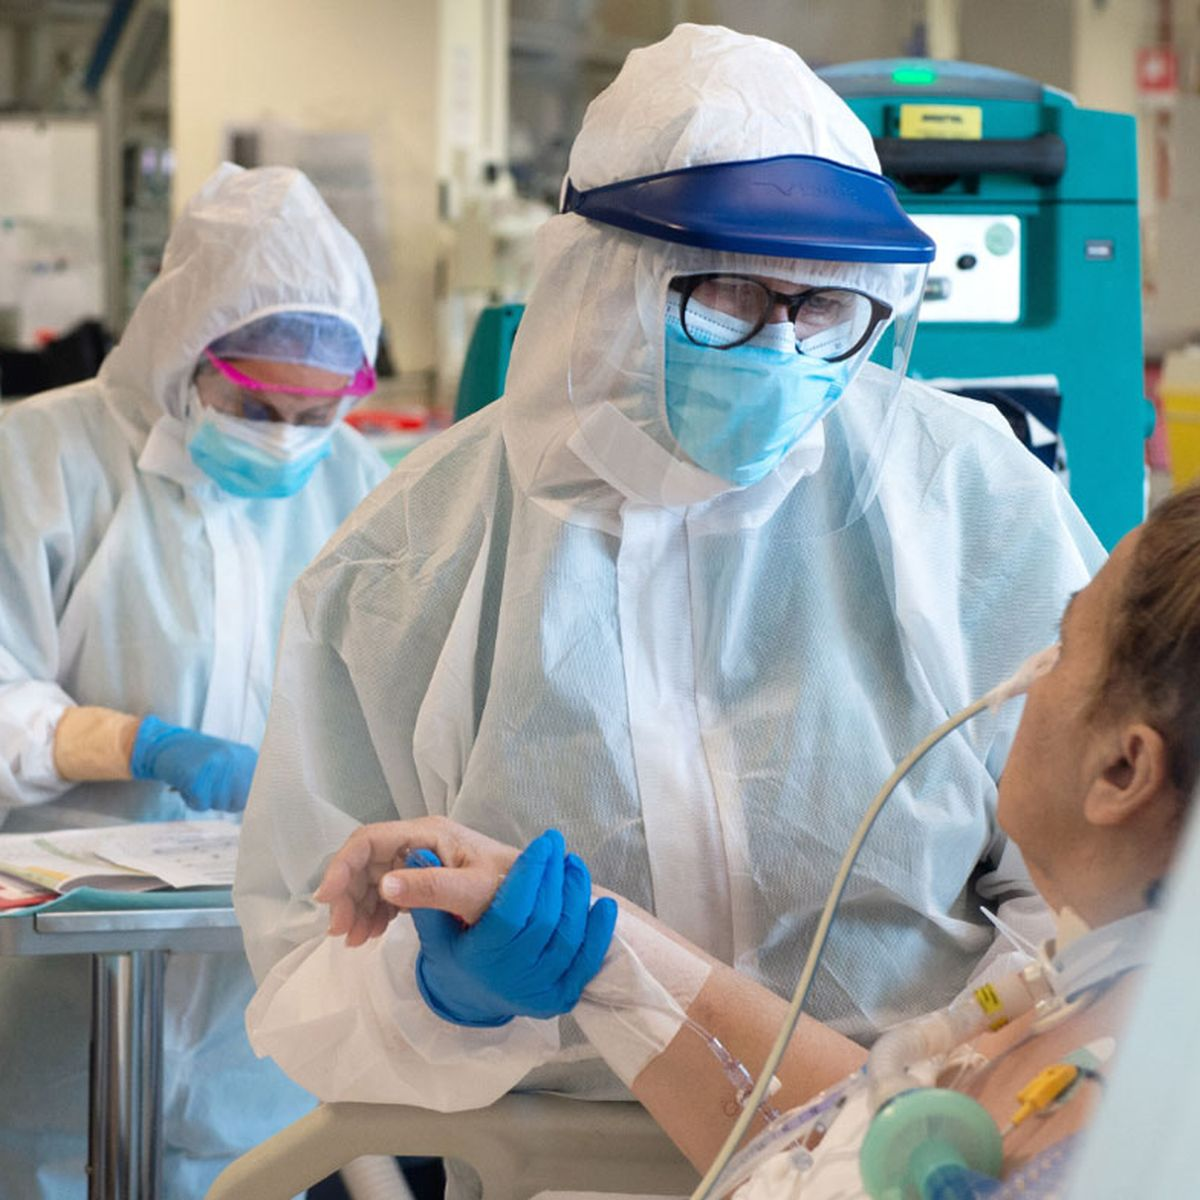Coverall: (233, 16, 1140, 1200), (1, 165, 425, 1200)
Face_Shield: (608, 149, 937, 557)
Gloves: (397, 827, 633, 1051), (125, 705, 272, 814)
with_mask: (656, 258, 863, 486), (192, 358, 339, 508)
without_mask: (989, 553, 1149, 931)
